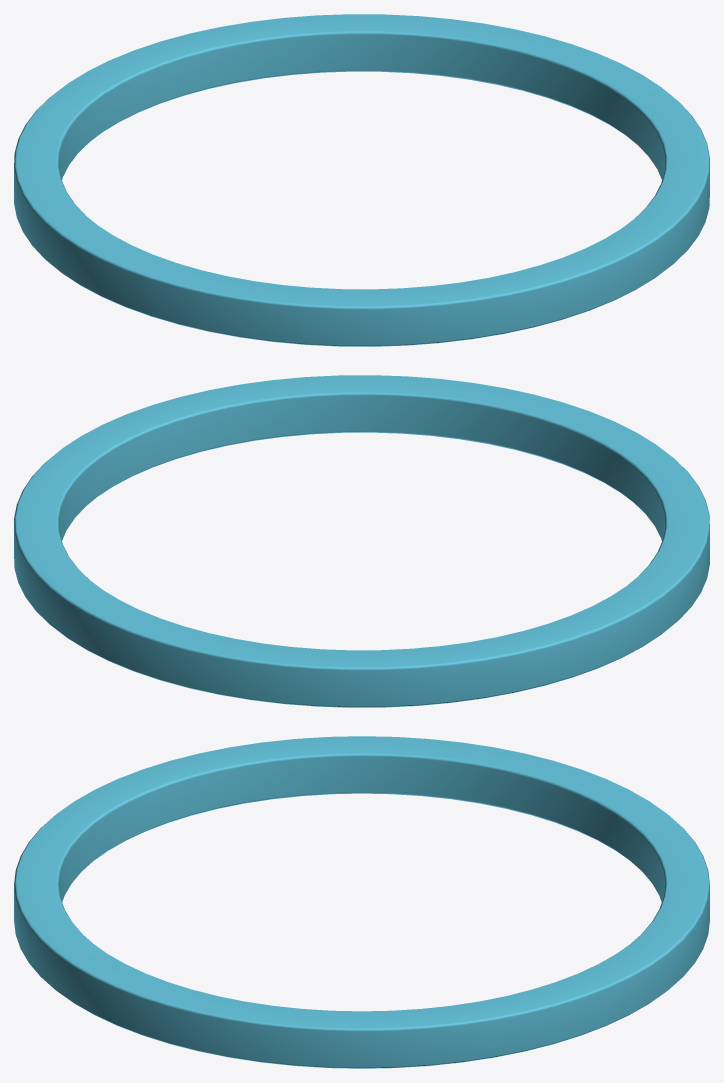
3 views of the same model, one above another, from view 1: azimuth 30°, elevation 25°; view 2: azimuth 150°, elevation 25°; view 3: azimuth 270°, elevation 25° (orthographic).
Visible parts, largest first — view 1: seal_body; view 2: seal_body; view 3: seal_body.
Part boxes in pixels (box(x1,y1,x2,y2)): seal_body: box(14, 14, 709, 346); seal_body: box(14, 375, 709, 707); seal_body: box(14, 736, 709, 1068).
Bounding box in the file's own units: 0.0984 × 0.00635 × 0.0984.
